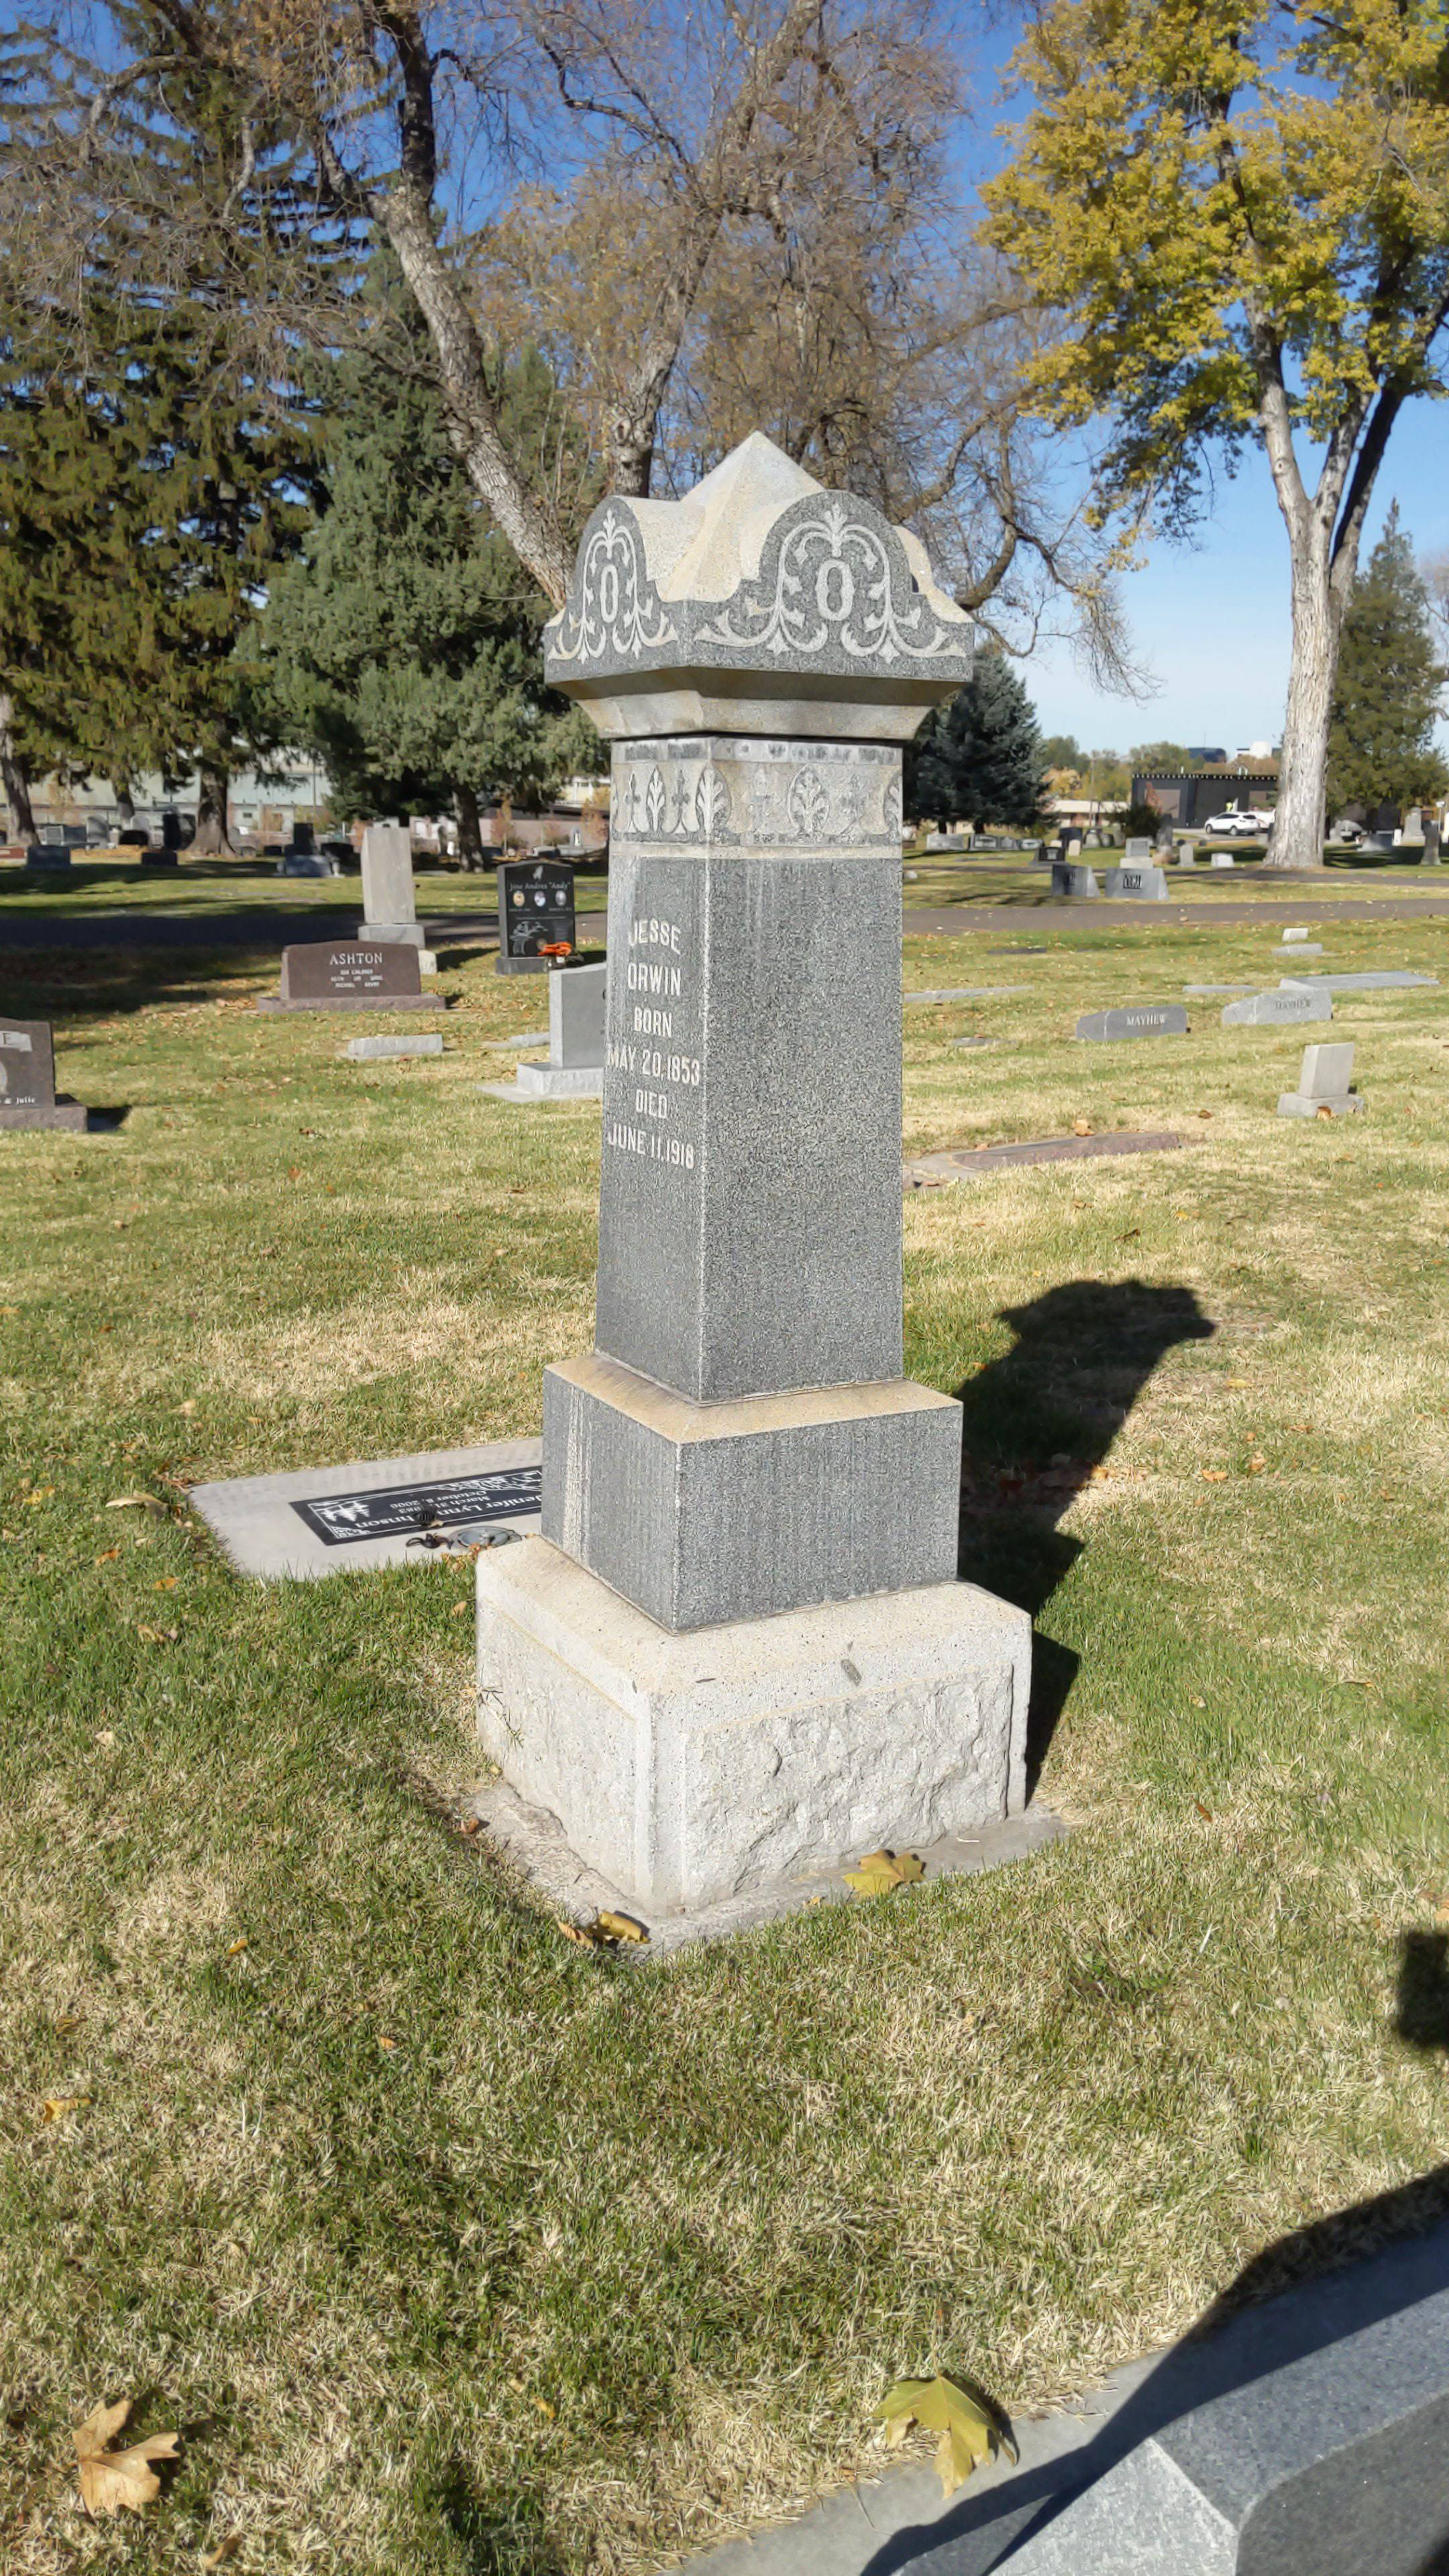obelisk: (538, 428, 959, 1631)
